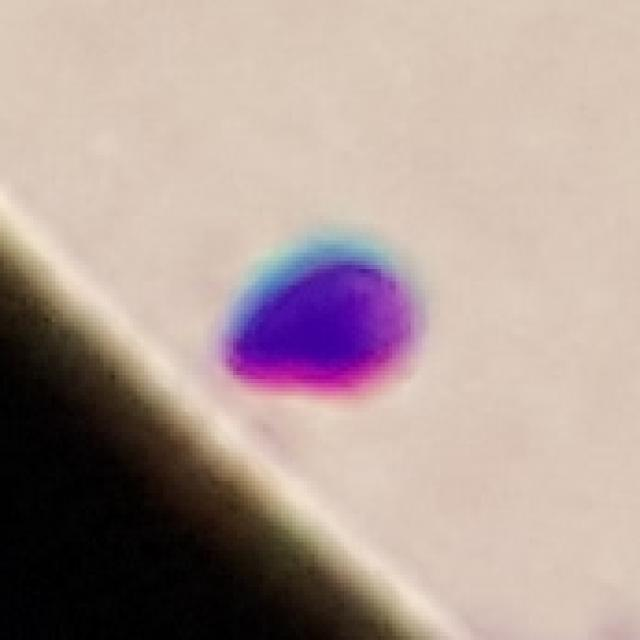non-sperm: (215, 232, 422, 403)
